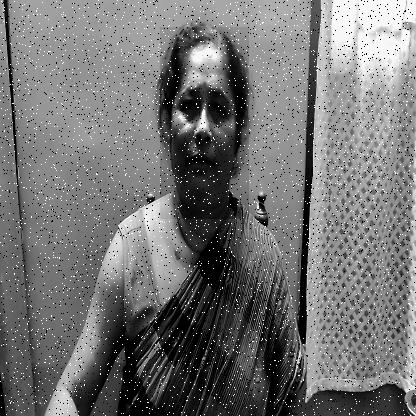Normal: (160, 27, 249, 219)
